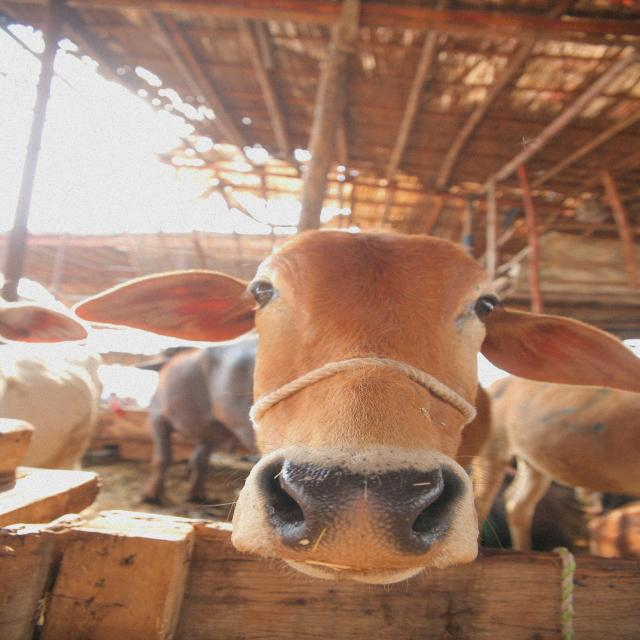muzzles: (236, 449, 476, 568)
